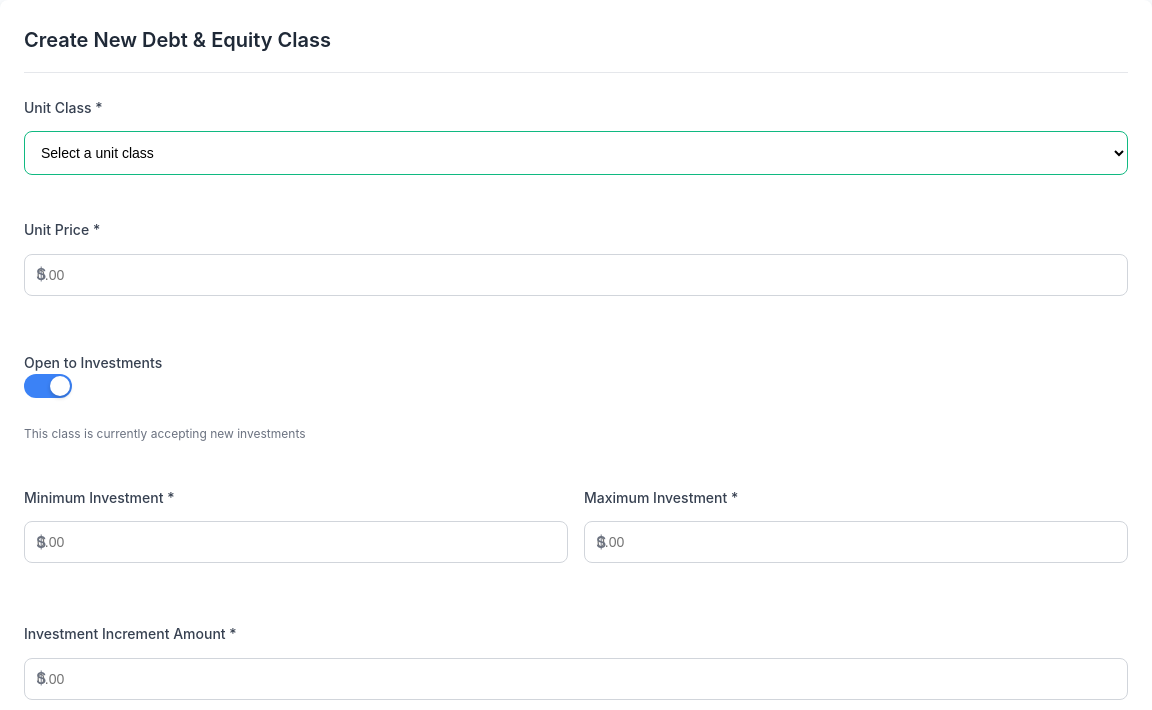
Test: DebtEquityClassForm › dismisses success message
Select "+ Create your own" in the dropdown labelled "Unit Class *" at point(576, 153), box [24,131,1128,175]
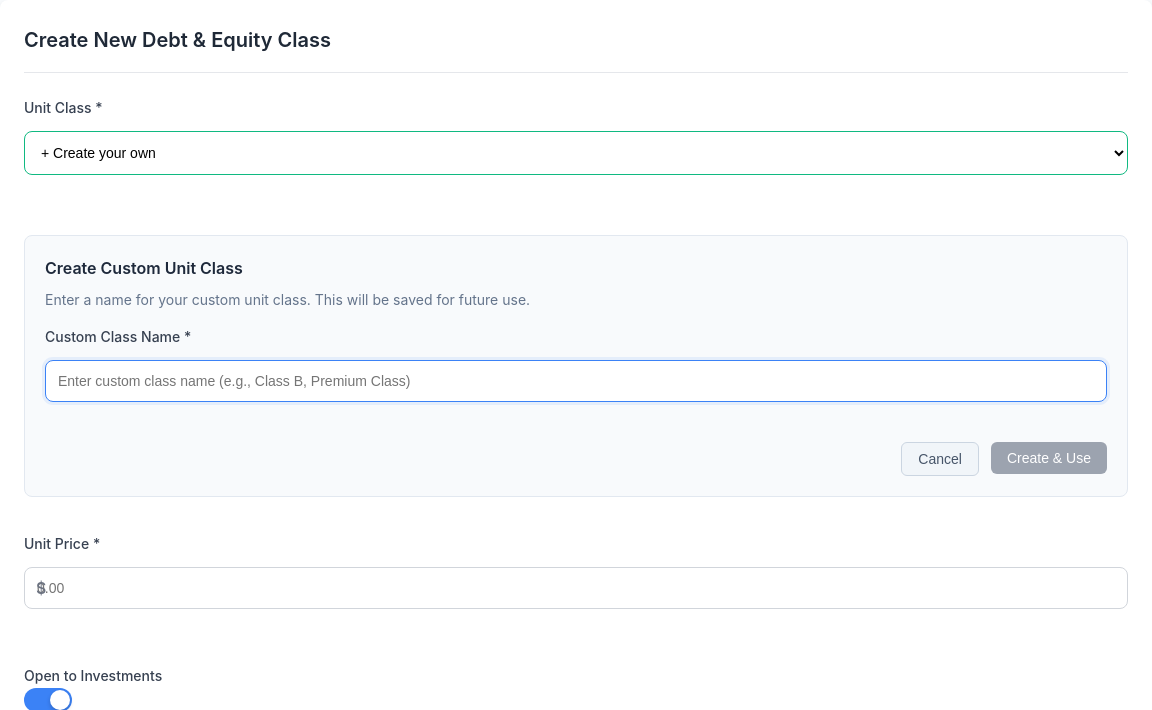
Type "Class B" into the field with placeholder "Enter custom class name (e.g., Class B, Premium Class)" at point(576, 381), box [45,360,1107,402]
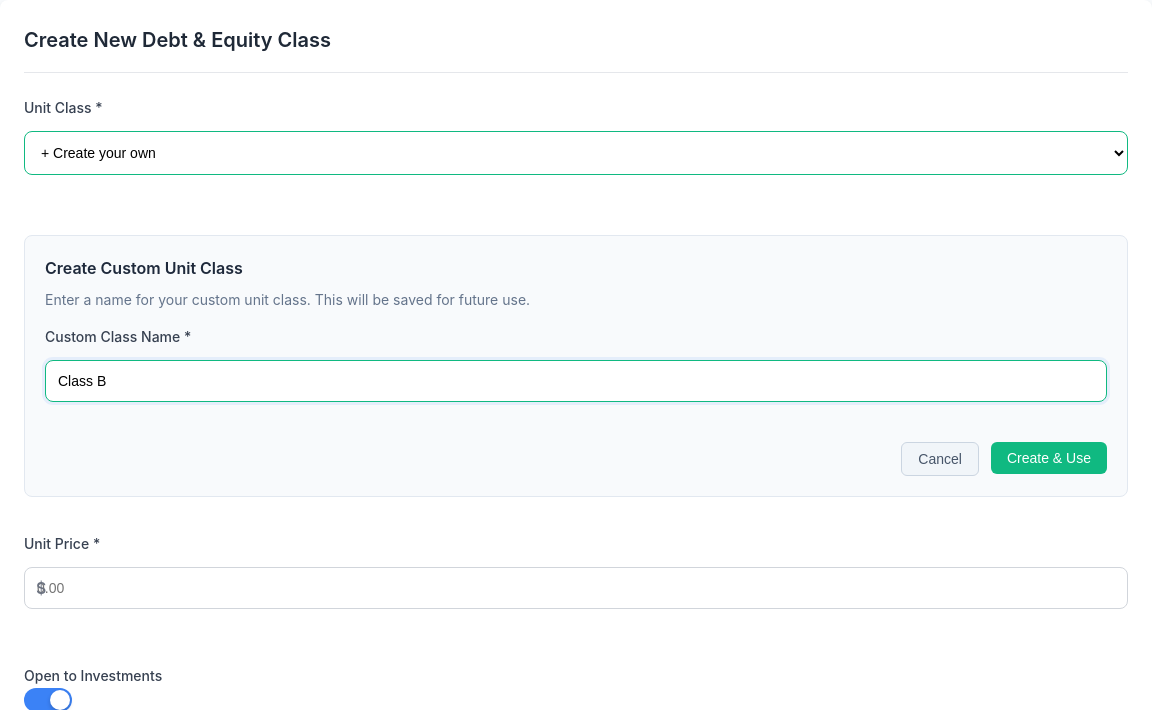
Click the button "Create & Use" at point(1049, 458), box [991,442,1107,474]
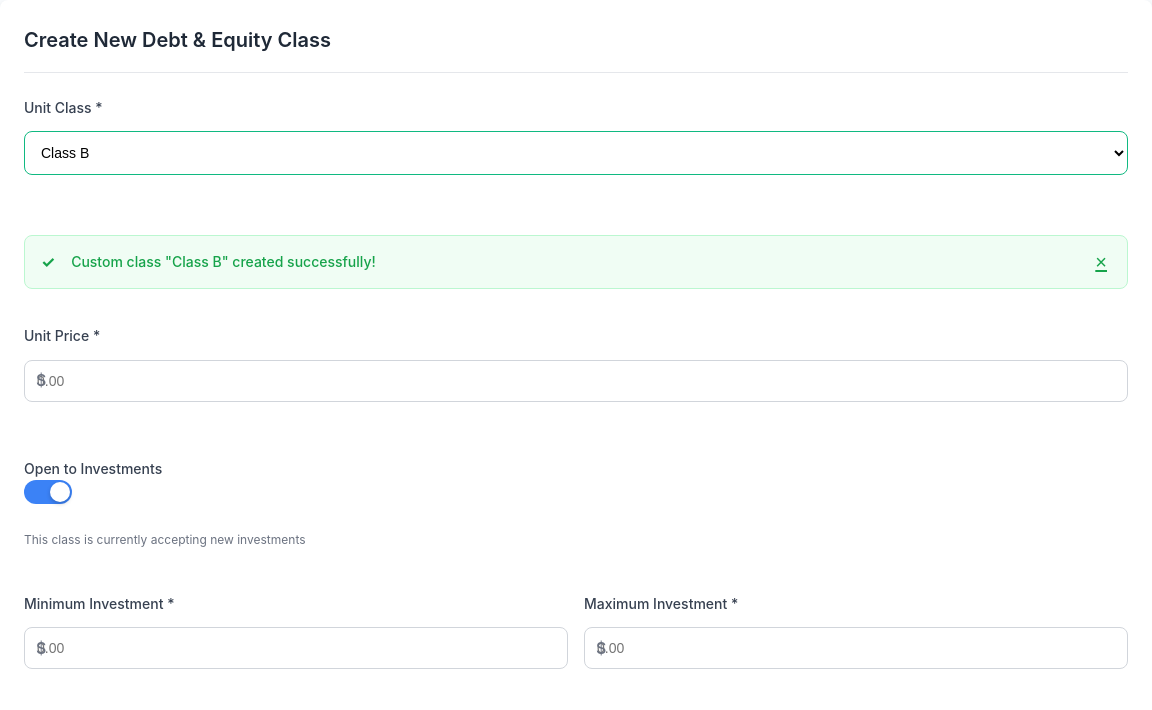
Expected: the text "Custom class \"Class B\" created successfully!" is shown, [71,251,376,274]
Click the button named "Dismiss success message" at point(1101, 262), box [1091,248,1111,276]
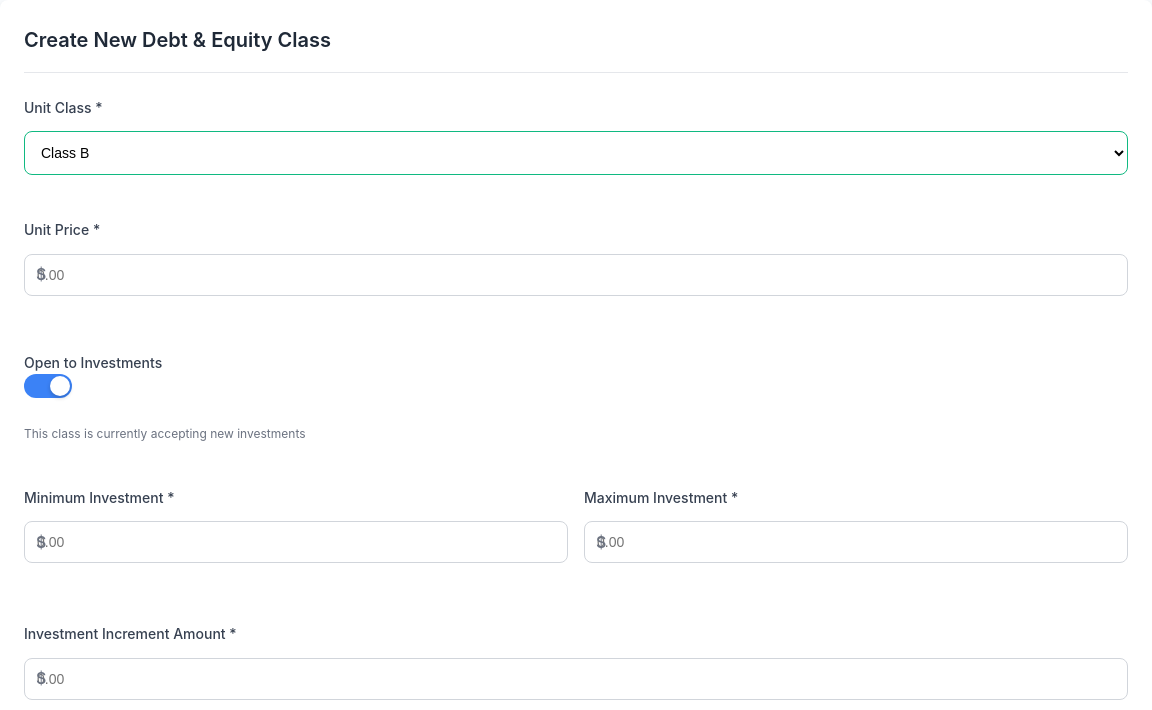
Expected: the text "Custom class \"Class B\" created successfully!" is gone
